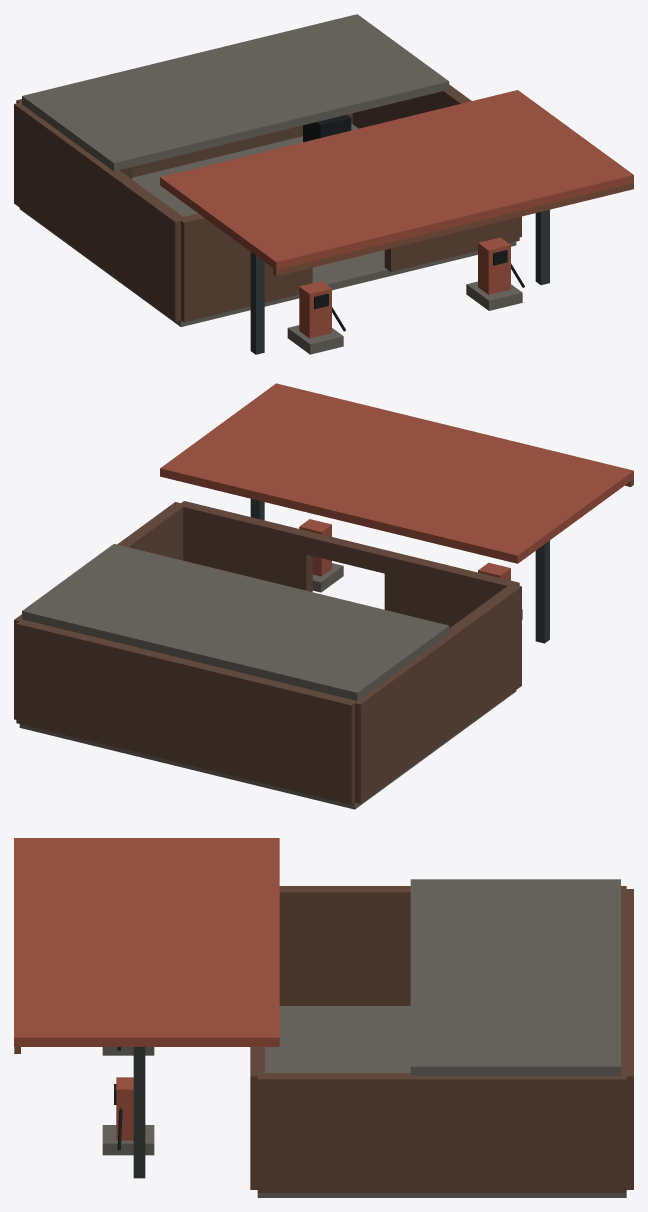
File: ruin_fuel_station.glb
3 views of the same model, one above another, from view 1: azimuth 30°, elevation 25°; view 2: azimuth 150°, elevation 25°; view 3: azimuth 270°, elevation 25° (orthographic). The views are drawn at different scales.
Visible parts, largest first — view 1: canopy, roof_remnant.002, WALL_side.006, WALL_front_pier.006, FLOOR_ground.003, WALL_front_pier.007, canopy_trim, WALL_side.007, WALL_back.003, pump_casing.001, pump_casing, canopy_post.002 (+4 smaller); view 2: canopy, WALL_back.003, roof_remnant.002, WALL_side.006, WALL_front_pier.007, WALL_front_pier.006, WALL_side.007, WALL_front_lintel.003, FLOOR_ground.003, canopy_post.002, pump_casing.001; view 3: canopy, WALL_side.007, roof_remnant.002, WALL_side.006, FLOOR_ground.003, WALL_back.003, canopy_post.003, WALL_front_pier.007, pump_casing.001, pump_base.001.
Boxes of the visible parts, x1,y1,x2,y2 form: canopy: (160, 90, 633, 270); roof_remnant.002: (22, 14, 449, 171); WALL_side.006: (14, 102, 184, 321); WALL_front_pier.006: (178, 213, 312, 322); FLOOR_ground.003: (19, 124, 516, 326); WALL_front_pier.007: (384, 217, 519, 271); canopy_trim: (273, 183, 633, 276); WALL_side.007: (352, 84, 521, 237); WALL_back.003: (16, 99, 352, 177); pump_casing.001: (478, 237, 510, 294); pump_casing: (299, 281, 331, 338); canopy_post.002: (250, 252, 264, 354); canopy: (160, 383, 633, 563); WALL_back.003: (16, 619, 356, 804); roof_remnant.002: (22, 544, 449, 700); WALL_side.006: (350, 585, 521, 803); WALL_front_pier.007: (178, 501, 312, 591); WALL_front_pier.006: (384, 551, 519, 628); WALL_side.007: (14, 502, 185, 719); WALL_front_lintel.003: (306, 532, 390, 573); FLOOR_ground.003: (19, 690, 516, 809); canopy_post.002: (535, 540, 549, 643); pump_casing.001: (299, 519, 331, 576); canopy: (14, 838, 279, 1046); WALL_side.007: (257, 1073, 626, 1192); roof_remnant.002: (410, 879, 620, 1075); WALL_side.006: (279, 886, 626, 1005); FLOOR_ground.003: (257, 1006, 626, 1197); WALL_back.003: (620, 889, 633, 1189); canopy_post.003: (133, 1047, 145, 1178); WALL_front_pier.007: (250, 1047, 264, 1189); pump_casing.001: (116, 1077, 133, 1140); pump_base.001: (102, 1125, 154, 1155).
Size of the model in its own units: 12.8 by 4.98 by 16.8.
